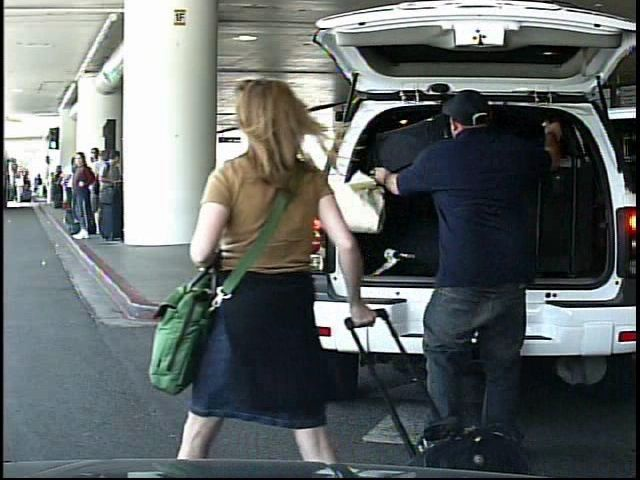person: (187, 63, 367, 465), (379, 75, 547, 421), (15, 174, 26, 204), (35, 173, 46, 200)
